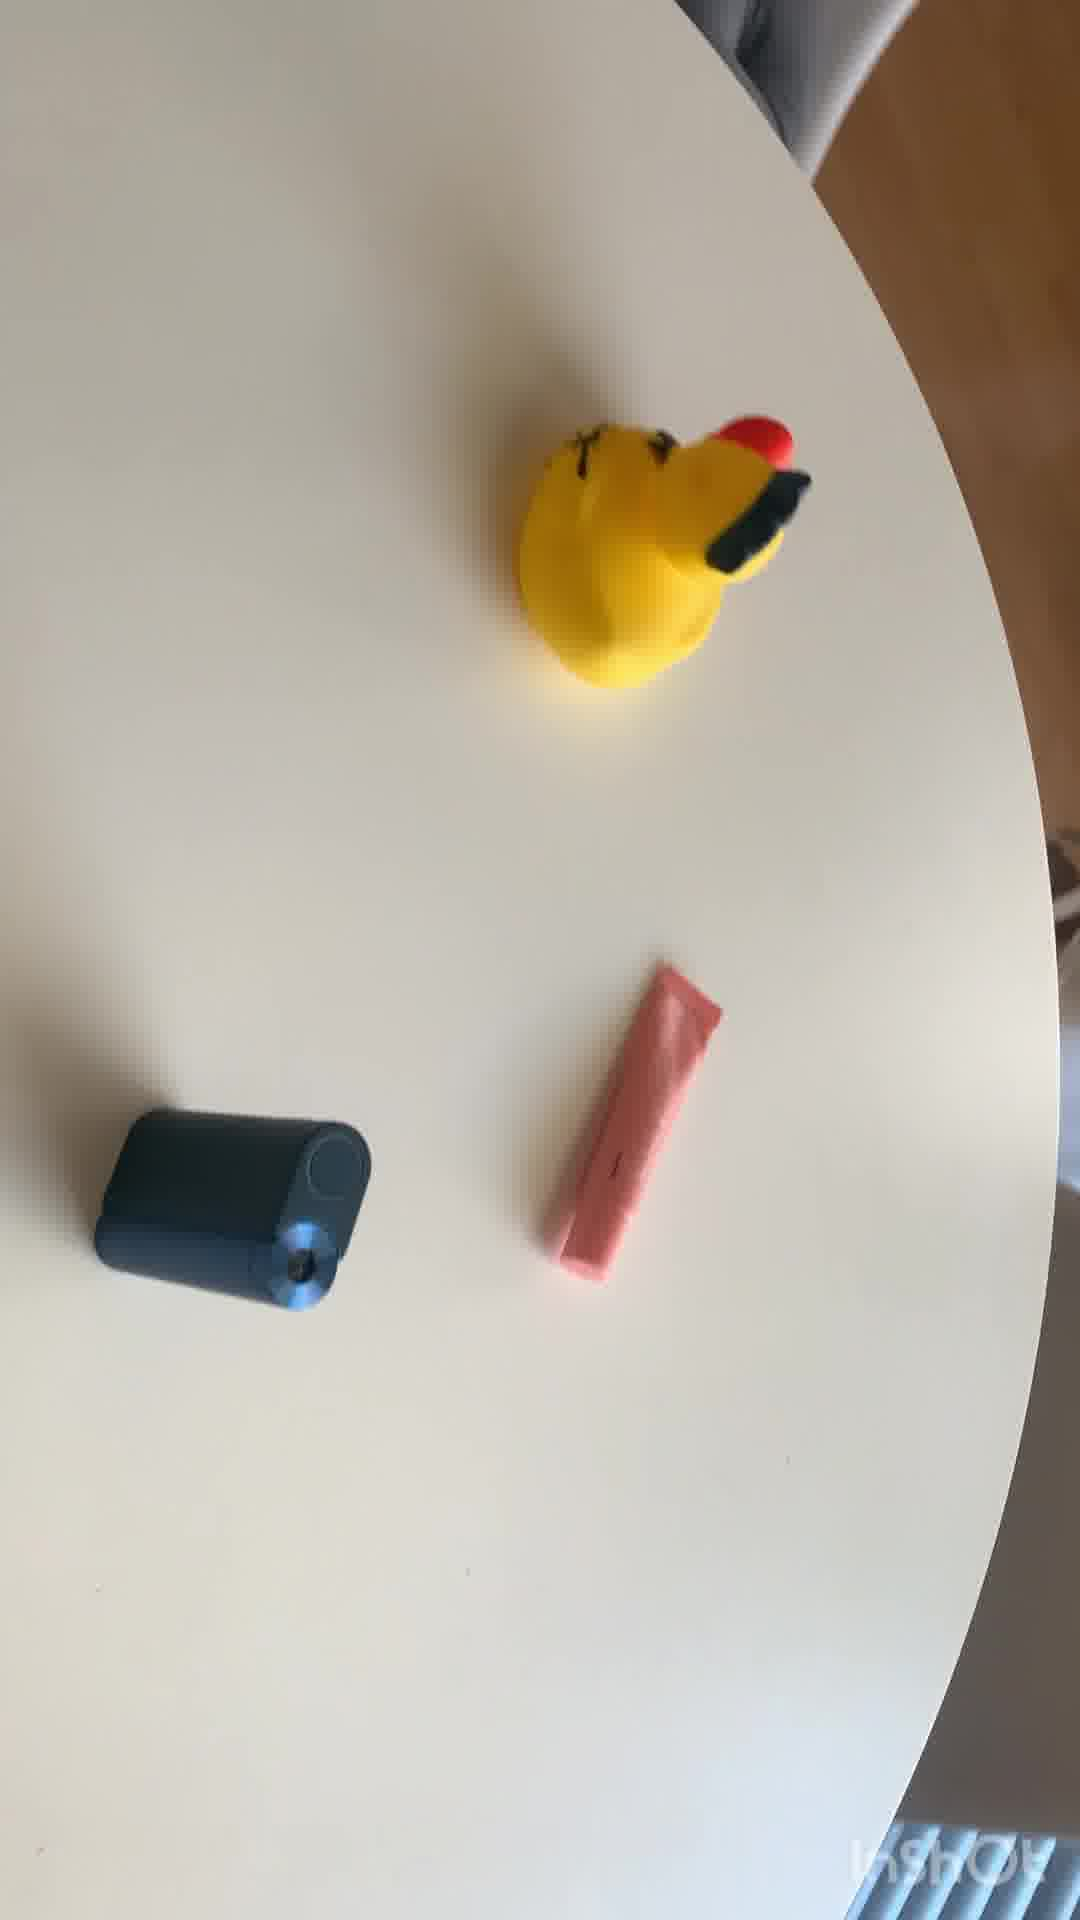duck: (505, 413, 815, 698)
glo: (90, 1095, 382, 1316)
lip balm: (545, 964, 727, 1280)
